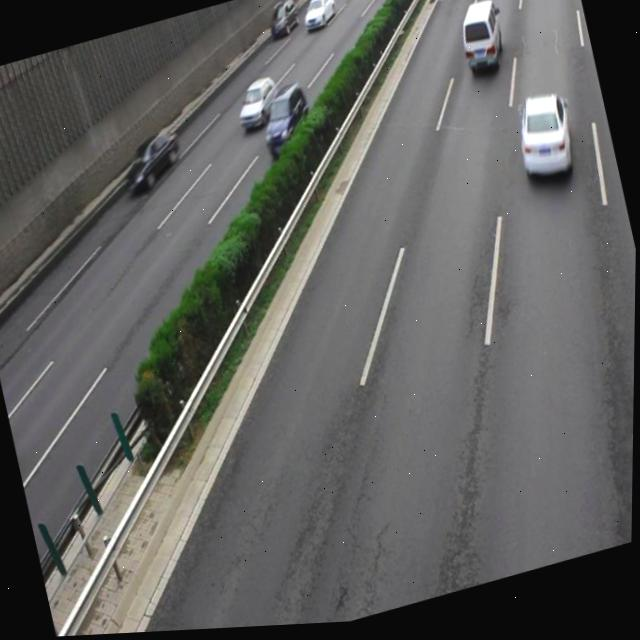car: (508, 90, 579, 191), (253, 81, 316, 162), (119, 128, 185, 196), (230, 74, 284, 136)
truck: (452, 0, 508, 86)
